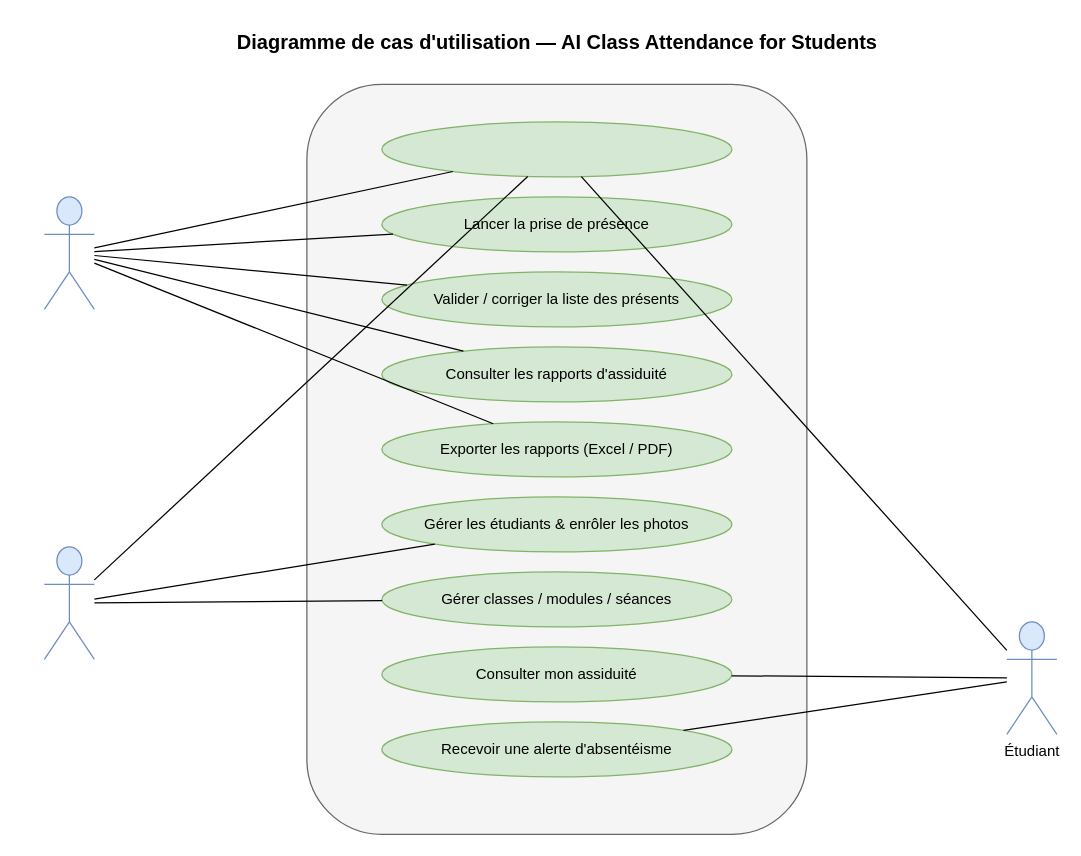
The diagram is 1081 pixels wide and 856 high, and some of its shapes have lost their labels. The box of each missing label's shape, as (x1, y1, x2, y2) in pixels:
Administrateur: (43, 546, 94, 659)
Enseignant: (43, 196, 94, 309)
S'authentifier: (381, 121, 732, 177)
Système — AI Class Attendance: (306, 83, 807, 834)
